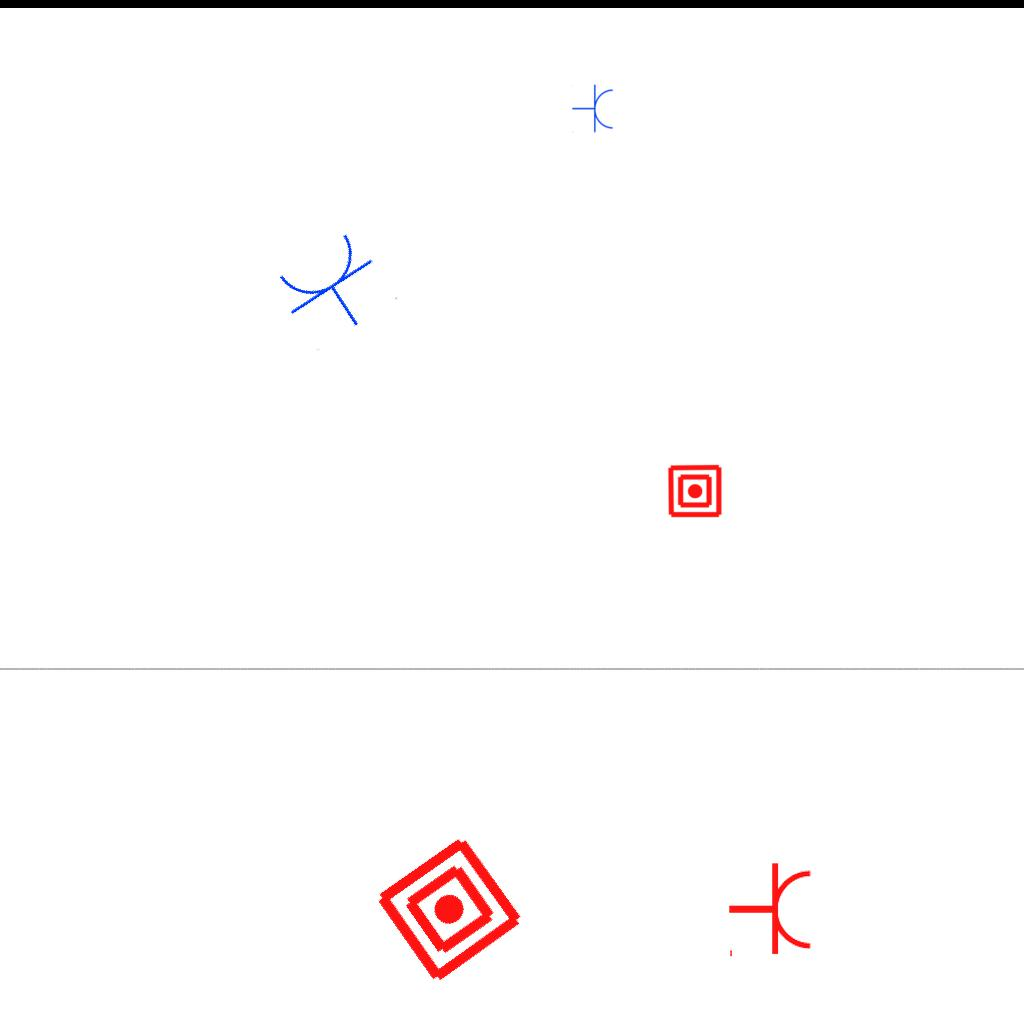NAM-Nichtautomatischer_Melder: (370, 830, 529, 989), (667, 463, 723, 519)
Schukosteckdose_einfach: (268, 224, 400, 353), (727, 861, 814, 961), (572, 84, 615, 134)
